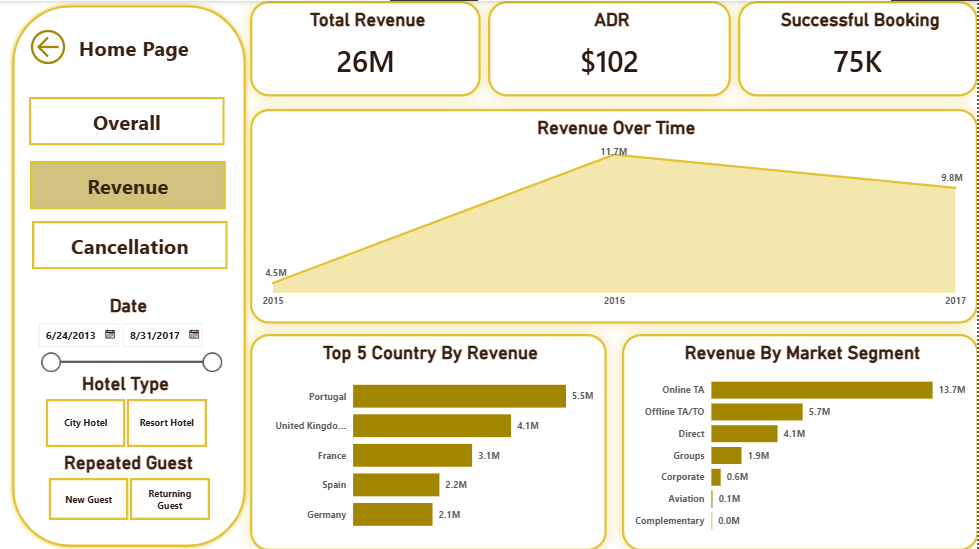

The dashboard page shown, as its layout file describes it:
{"tool":"powerbi","page":{"name":"Revenue","canvas":[1280,720],"ordinal":2},"visuals":[{"type":"group","id":"g1","title":"Group 1","box":[10.1,0,316.8,720],"z":0},{"type":"shape","box":[10.1,0,316.8,720],"z":0,"group":"g1"},{"type":"cardVisual","title":"Successful Booking","fields":{"Data":["measures (2).Successful Bookings"]},"box":[966.2,0,313.9,125.3],"z":1000},{"type":"cardVisual","title":"Total Revenue","fields":{"Data":["measures (2).Total Revenue"]},"box":[326.9,0,302.4,125.3],"z":2000},{"type":"cardVisual","title":"ADR","fields":{"Data":["measures (2).ADR"]},"box":[639.4,0,318.2,125.3],"z":3000},{"type":"areaChart","title":"Revenue Over Time","fields":{"Category":["dates.Date Hierarchy.Date","dates.Date Hierarchy.year","dates.Date Hierarchy.quarter","dates.Date Hierarchy.month"],"Y":["measures (2).Total Revenue"]},"box":[326.9,141.1,953.3,280.8],"z":4000},{"type":"barChart","title":"Revenue By Market Segment","fields":{"Category":["hotel_bookings.market_segment"],"Y":["measures (2).Total Revenue"]},"box":[813.6,436.3,466.6,283.7],"z":6000},{"type":"actionButton","title":"Home Page","box":[33.1,31.7,282.2,57.6],"z":7000,"group":"g1"},{"type":"barChart","title":"Top 5 Country By Revenue","fields":{"Category":["country.country_name"],"Y":["measures (2).Total Revenue"]},"box":[326.9,436.3,466.6,283.7],"z":7000},{"type":"slicer","title":"Hotel Type","fields":{"Values":["hotel_bookings.hotel"]},"box":[33.1,486.7,260.6,103.7],"z":8000,"group":"g1"},{"type":"slicer","title":"Repeated Guest","fields":{"Values":["hotel_bookings.repeat_guest"]},"box":[37.5,590.4,260.6,96.5],"z":9000,"group":"g1"},{"type":"slicer","title":"Date ","fields":{"Values":["dates.Date"]},"box":[37.5,384.5,260.6,102.2],"z":10000,"group":"g1"},{"type":"actionButton","title":"Overall","box":[37.5,125.3,256.3,63.4],"z":11000,"group":"g1"},{"type":"actionButton","title":"Revenue","box":[38.9,208.8,256.3,63.4],"z":11500,"group":"g1"},{"type":"actionButton","title":"Cancellation","box":[41.8,288,256.3,63.4],"z":12000,"group":"g1"}]}

Visuals, with their boxes in screenshot pixels (x1, y1, x2, y2), scaled from the page's 1280x720 canvas onto the 979x549 screenshot:
"Group 1" group: 8/0/250/548
shape: 8/0/250/548
"Successful Booking" cardVisual: 739/0/978/96
"Total Revenue" cardVisual: 250/0/481/96
"ADR" cardVisual: 489/0/732/96
"Revenue Over Time" areaChart: 250/108/978/322
"Revenue By Market Segment" barChart: 622/333/978/548
"Home Page" actionButton: 25/24/241/68
"Top 5 Country By Revenue" barChart: 250/333/607/548
"Hotel Type" slicer: 25/371/225/450
"Repeated Guest" slicer: 29/450/228/524
"Date " slicer: 29/293/228/371
"Overall" actionButton: 29/96/225/144
"Revenue" actionButton: 30/159/226/208
"Cancellation" actionButton: 32/220/228/268
